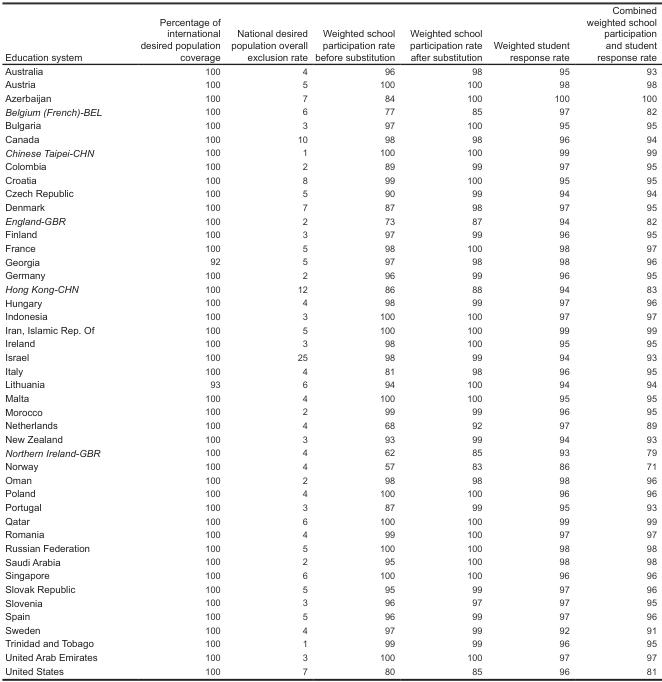table: (4, 3, 656, 676)
table column: (4, 3, 120, 676), (120, 3, 224, 676), (310, 3, 401, 676), (487, 3, 577, 676), (224, 3, 310, 676), (401, 3, 487, 676), (577, 3, 656, 676)
table column header: (4, 3, 656, 63)
table row: (4, 3, 656, 63), (4, 63, 656, 77), (4, 90, 656, 104), (4, 104, 656, 118), (4, 131, 656, 145), (4, 145, 656, 159), (4, 172, 656, 186), (4, 199, 656, 213), (4, 213, 656, 227), (4, 240, 656, 254), (4, 254, 656, 268), (4, 281, 656, 295), (4, 295, 656, 309), (4, 322, 656, 336), (4, 349, 656, 363), (4, 363, 656, 377), (4, 390, 656, 404), (4, 404, 656, 418), (4, 431, 656, 445), (4, 445, 656, 459), (4, 472, 656, 486), (4, 499, 656, 513), (4, 513, 656, 527), (4, 540, 656, 554), (4, 554, 656, 568), (4, 581, 656, 595), (4, 595, 656, 609), (4, 622, 656, 636), (4, 649, 656, 663), (4, 77, 656, 90), (4, 118, 656, 131), (4, 159, 656, 172), (4, 186, 656, 199), (4, 227, 656, 240), (4, 268, 656, 281), (4, 309, 656, 322), (4, 336, 656, 349), (4, 377, 656, 390), (4, 418, 656, 431), (4, 459, 656, 472), (4, 486, 656, 499), (4, 527, 656, 540), (4, 568, 656, 581), (4, 609, 656, 622), (4, 636, 656, 649), (4, 663, 656, 676)
